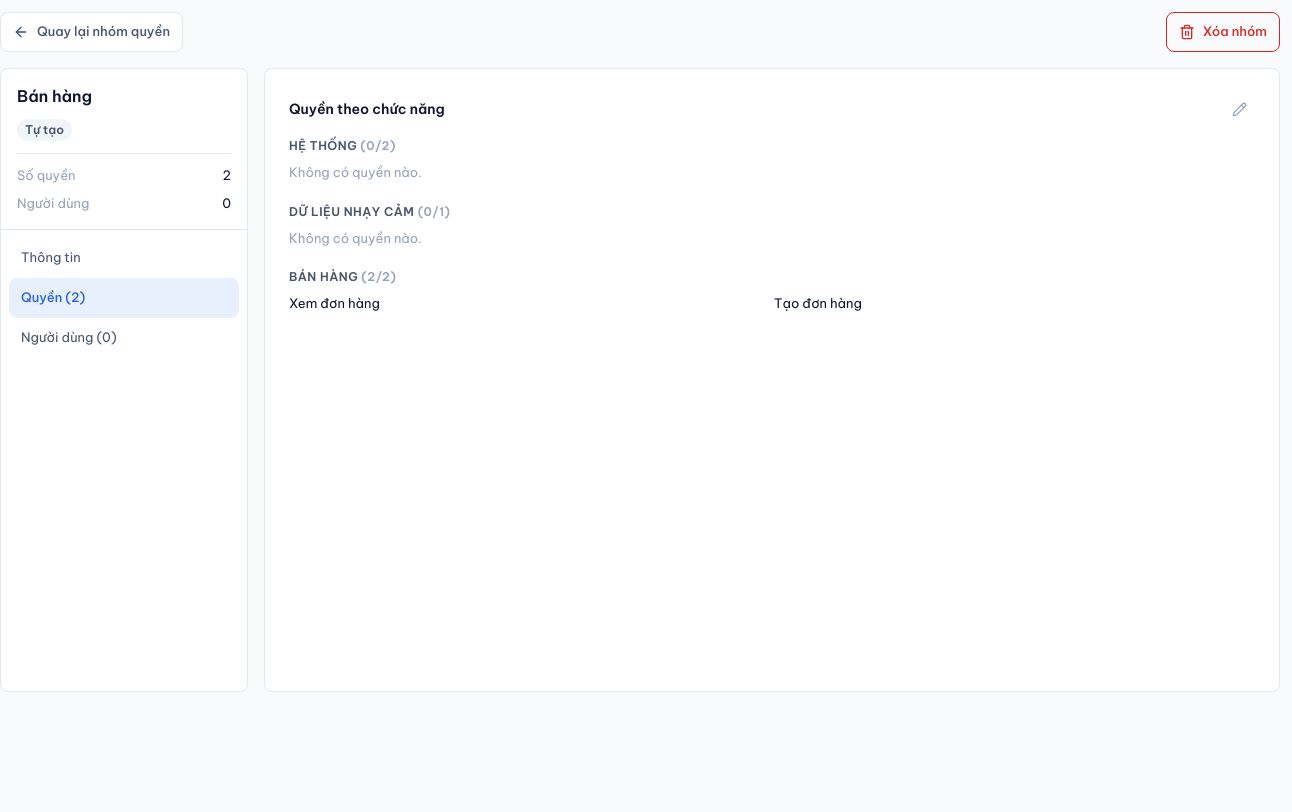
RoleDetail — ma trận quyền › nhóm theo chức năng: mỗi nhóm một fieldset, ô đánh dấu theo quyền hiện có, quyền nhạy cảm được ghi chú
Click the button named "Chỉnh sửa quyền": {"x": 1239, "y": 109} x1=1223 y1=93 x2=1255 y2=125
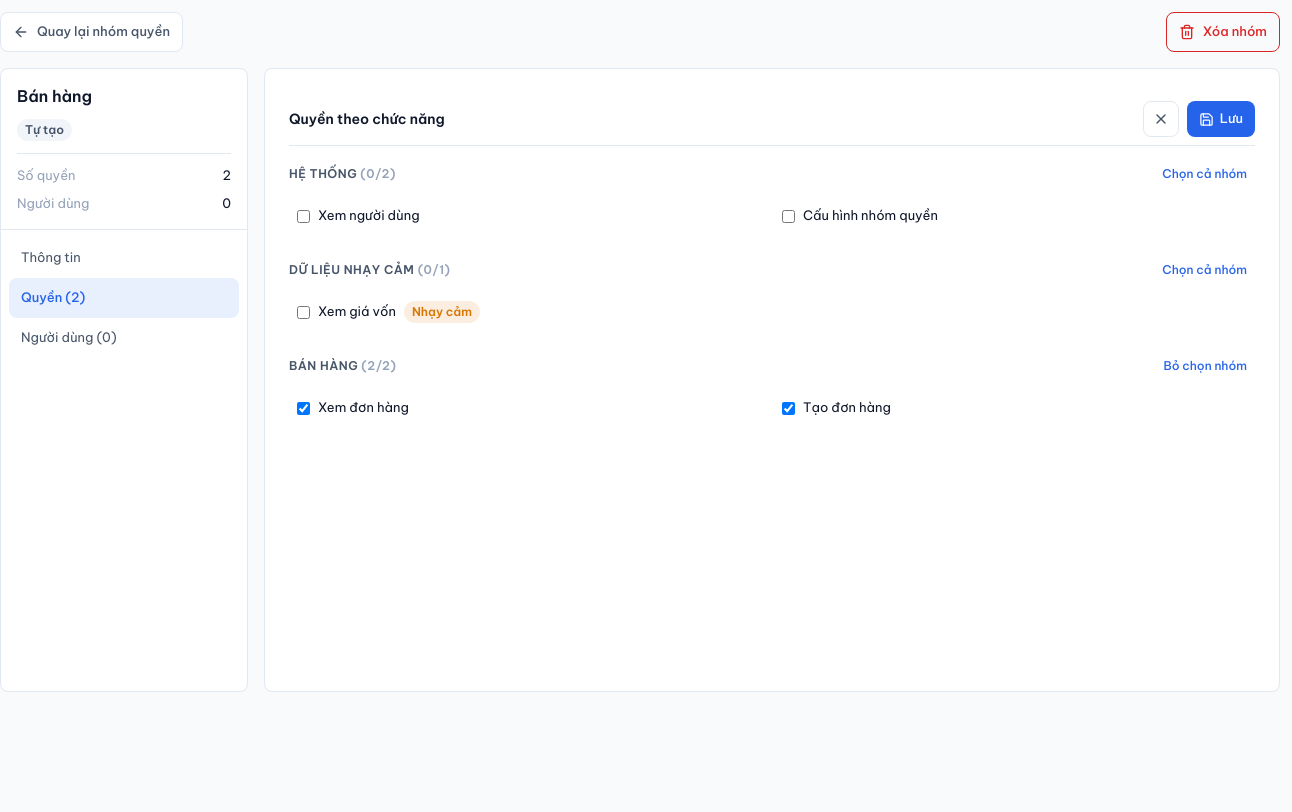
expect the element "Bán hàng (2/2) Bỏ chọn nhóm Xem đơn hàng Tạo đơn hàng" is shown: met, box x1=289 y1=350 x2=1255 y2=426
expect the checkbox labelled "Xem đơn hàng" is checked: met, box x1=297 y1=402 x2=310 y2=414
expect the checkbox labelled "Xem người dùng" is not checked: met, box x1=297 y1=210 x2=310 y2=222
